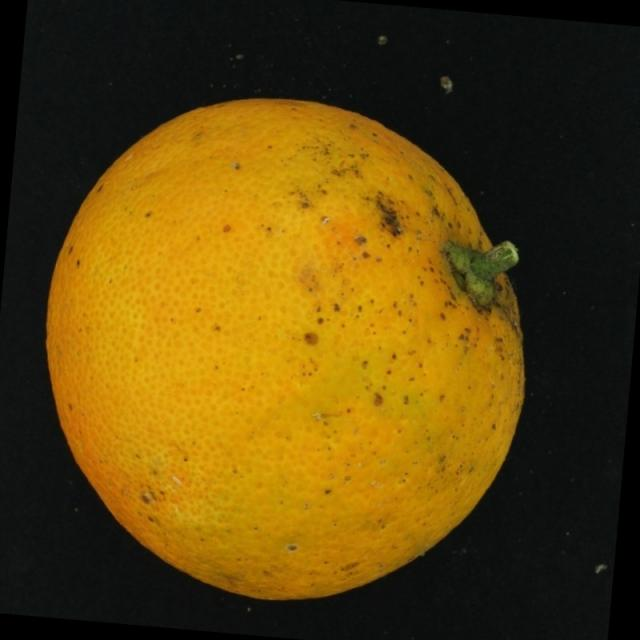grenning: (28, 86, 547, 609)
